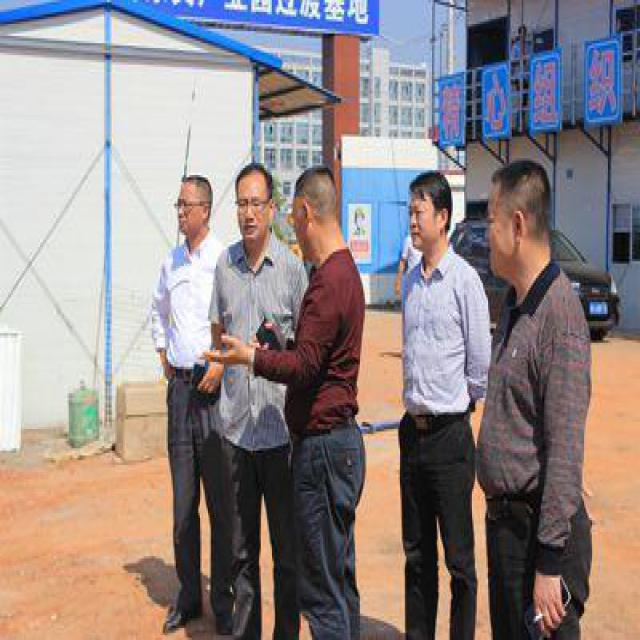head: (484, 145, 558, 289), (289, 157, 343, 265), (231, 157, 278, 248), (406, 166, 452, 255), (171, 169, 219, 241)
person: (473, 156, 596, 636), (279, 156, 369, 636), (393, 166, 482, 634), (147, 168, 234, 631), (226, 161, 299, 631)
